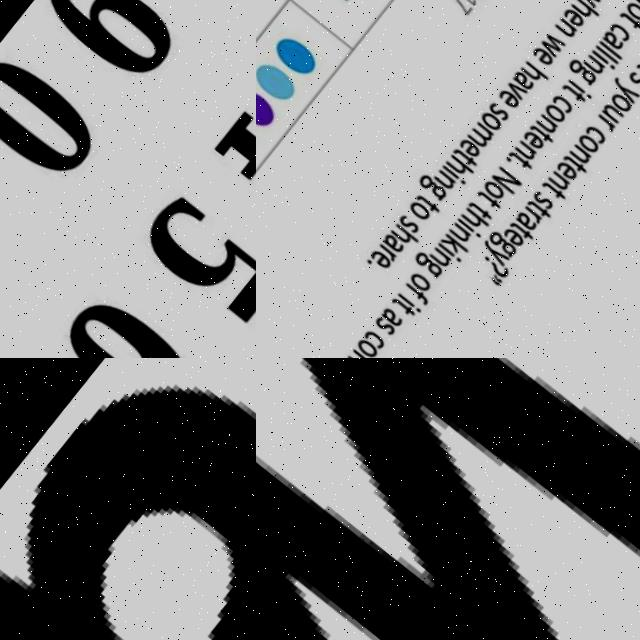0: (0, 32, 135, 221)
3: (450, 0, 471, 19)
4: (190, 77, 256, 255)
5: (121, 174, 256, 348)
6: (30, 266, 240, 358)
8: (109, 0, 256, 16)
9: (26, 0, 207, 113)
A: (0, 358, 256, 640), (375, 233, 403, 260), (508, 212, 535, 239), (597, 32, 624, 58), (508, 73, 535, 99), (372, 307, 398, 332)
C: (580, 126, 605, 152), (604, 25, 630, 50), (547, 95, 572, 120), (356, 329, 381, 354)
E: (495, 227, 523, 254), (527, 47, 555, 74), (516, 130, 543, 156), (453, 138, 480, 164), (363, 248, 390, 274), (492, 90, 519, 116), (549, 162, 575, 188), (558, 10, 584, 35)
F: (397, 283, 426, 310)
G: (411, 173, 446, 207), (481, 230, 515, 263), (407, 251, 440, 284), (563, 61, 597, 93)
H: (442, 157, 471, 186), (455, 210, 485, 238), (516, 64, 546, 92), (568, 0, 597, 28), (386, 225, 415, 253)
I: (587, 52, 613, 77), (432, 244, 458, 268), (391, 293, 417, 317), (437, 166, 463, 190), (452, 220, 476, 243), (564, 82, 588, 105)
K: (434, 235, 463, 264)
L: (591, 48, 617, 72), (596, 44, 620, 67)
M: (461, 124, 492, 154)
N: (486, 168, 519, 200), (508, 142, 534, 167), (422, 248, 447, 273), (530, 115, 555, 140), (551, 21, 576, 46), (564, 147, 589, 171), (542, 173, 567, 197), (579, 57, 604, 81), (428, 171, 453, 195), (444, 224, 467, 247), (339, 349, 364, 358), (631, 0, 640, 22)
O: (401, 199, 429, 227), (474, 111, 502, 137), (571, 136, 597, 162), (476, 181, 502, 207), (605, 96, 631, 121), (402, 272, 428, 297), (539, 104, 565, 129), (347, 337, 374, 358), (620, 3, 640, 29)
R: (370, 244, 393, 266), (591, 118, 612, 138), (518, 209, 538, 229)
S: (483, 103, 509, 128), (392, 214, 417, 240), (526, 192, 551, 217), (366, 317, 391, 341), (622, 74, 640, 99), (332, 0, 349, 4)
T: (384, 296, 411, 323), (410, 193, 437, 220), (522, 201, 549, 227), (504, 221, 531, 247), (535, 181, 562, 207), (471, 190, 498, 216), (558, 85, 585, 111), (462, 201, 489, 227), (503, 151, 530, 177), (448, 148, 475, 174), (558, 156, 584, 181), (526, 125, 552, 150), (616, 13, 640, 39), (631, 64, 640, 90)
U: (597, 106, 620, 129)
V: (500, 82, 525, 107)
W: (256, 358, 640, 640), (535, 34, 565, 63), (575, 0, 604, 14)
Y: (606, 79, 638, 111), (473, 241, 506, 272)
